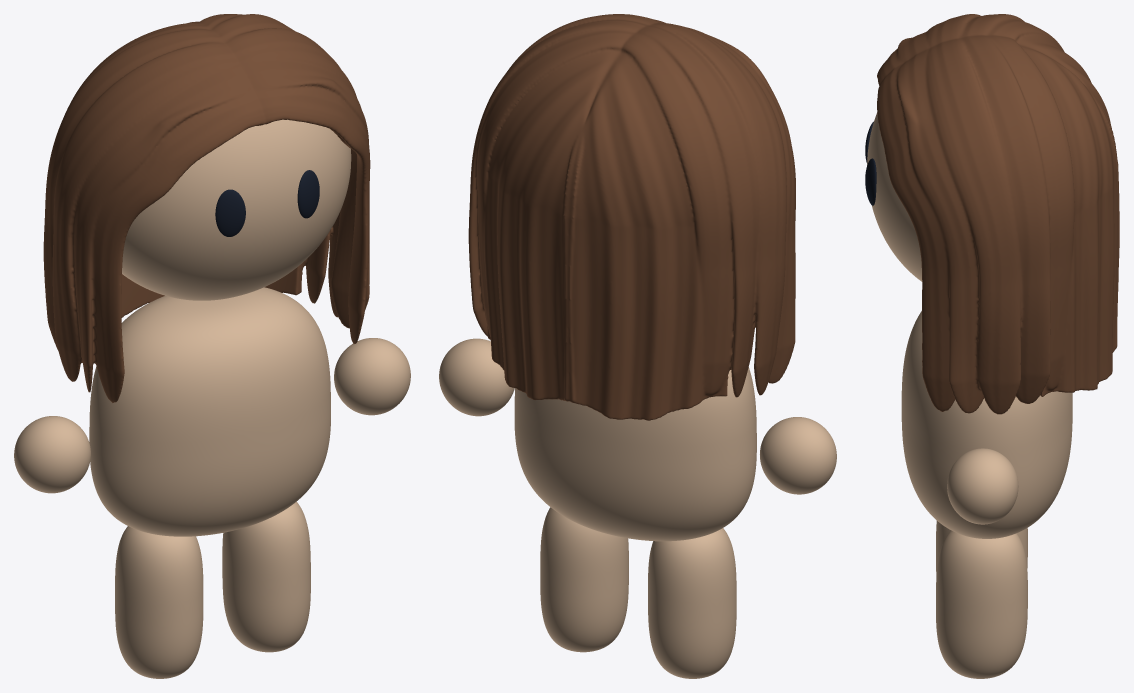
File: Feminine-skin0.glb
The picture shows the model from 3 angles, left to right: view 1: azimuth 30°, elevation 25°; view 2: azimuth 150°, elevation 25°; view 3: azimuth 270°, elevation 25°; orthographic projection. The views are drawn at different scales.
Parts seen in each view (by area): view 1: Hair / Straight blended sculpt, Skin / compact torso with skirt outline, Skin / soft oval head, Skin / leg -1, Skin / leg 1, Skin / hand -1, Skin / hand 1, Eye / dark oval -1, Eye / dark oval 1; view 2: Hair / Straight blended sculpt, Skin / compact torso with skirt outline, Skin / leg -1, Skin / leg 1, Skin / hand -1, Skin / hand 1; view 3: Hair / Straight blended sculpt, Skin / compact torso with skirt outline, Skin / leg 1, Skin / hand 1, Skin / soft oval head, Skin / leg -1, Eye / dark oval 1.
Boxes of the visible parts, x1=… form: Hair / Straight blended sculpt: x1=43, y1=14, x2=370, y2=402; Skin / compact torso with skirt outline: x1=89, y1=287, x2=330, y2=536; Skin / soft oval head: x1=122, y1=119, x2=351, y2=300; Skin / leg -1: x1=115, y1=526, x2=203, y2=678; Skin / leg 1: x1=222, y1=501, x2=310, y2=652; Skin / hand -1: x1=14, y1=416, x2=90, y2=493; Skin / hand 1: x1=334, y1=338, x2=410, y2=415; Eye / dark oval -1: x1=215, y1=189, x2=245, y2=236; Eye / dark oval 1: x1=297, y1=170, x2=319, y2=218; Hair / Straight blended sculpt: x1=468, y1=14, x2=795, y2=420; Skin / compact torso with skirt outline: x1=514, y1=367, x2=756, y2=541; Skin / leg -1: x1=648, y1=528, x2=736, y2=678; Skin / leg 1: x1=540, y1=507, x2=628, y2=652; Skin / hand -1: x1=760, y1=417, x2=836, y2=494; Skin / hand 1: x1=439, y1=338, x2=514, y2=416; Hair / Straight blended sculpt: x1=877, y1=14, x2=1119, y2=414; Skin / compact torso with skirt outline: x1=901, y1=311, x2=1072, y2=538; Skin / leg 1: x1=936, y1=530, x2=1027, y2=678; Skin / hand 1: x1=947, y1=448, x2=1018, y2=524; Skin / soft oval head: x1=867, y1=112, x2=922, y2=281; Skin / leg -1: x1=936, y1=520, x2=1027, y2=574; Eye / dark oval 1: x1=865, y1=158, x2=876, y2=205.
Size of the model in its own units: 1.49 by 2.31 by 0.8691.
